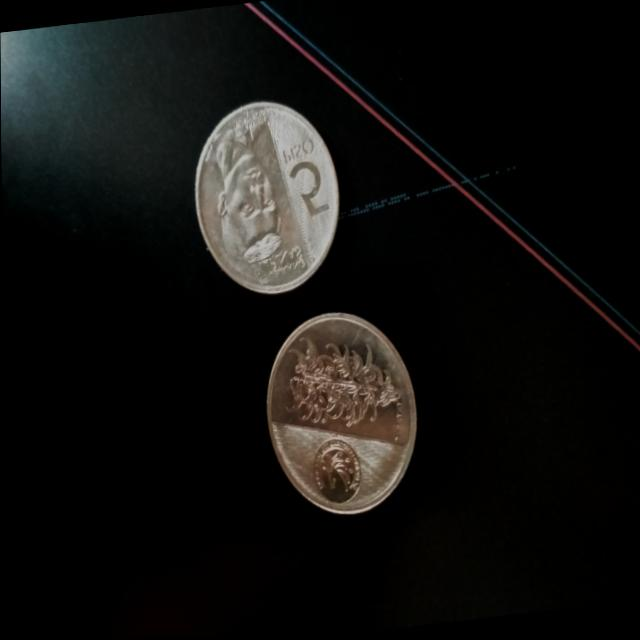5_New_Back: (276, 316, 405, 448)
5_New_Front: (272, 126, 337, 228)
